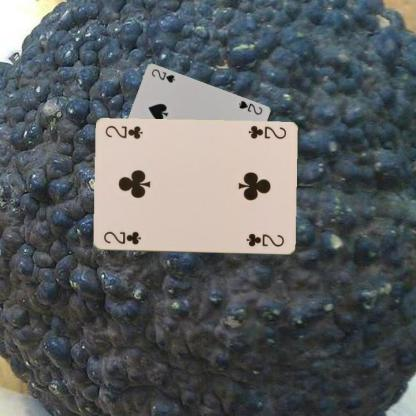2c: (245, 123, 287, 140), (101, 229, 142, 246)
2s: (236, 98, 263, 116)
